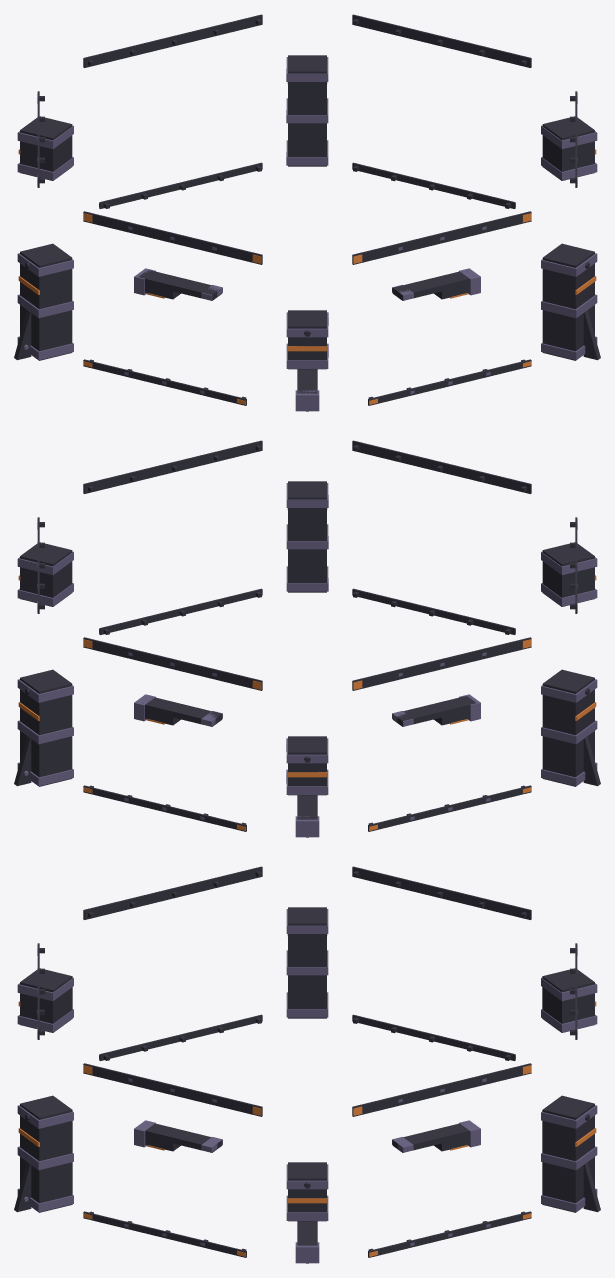
Rendered from reinforced_frame__asteroid.glb.
3 views of the same model, one above another, from view 1: azimuth 30°, elevation 25°; view 2: azimuth 150°, elevation 25°; view 3: azimuth 270°, elevation 25° (orthographic).
Parts seen in each view (by area): view 1: post_sleeves; view 2: post_sleeves; view 3: post_sleeves.
Part boxes in pixels (bbox=[...]): post_sleeves: bbox=[14, 14, 600, 411]; post_sleeves: bbox=[14, 440, 600, 837]; post_sleeves: bbox=[14, 866, 600, 1263].
Size of the model in its own units: 1.64 by 0.5361 by 1.45.
